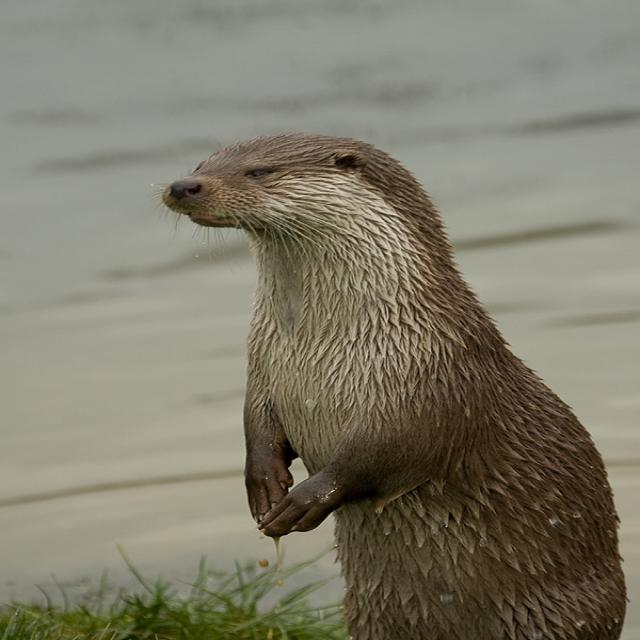otter: (168, 134, 629, 640)
